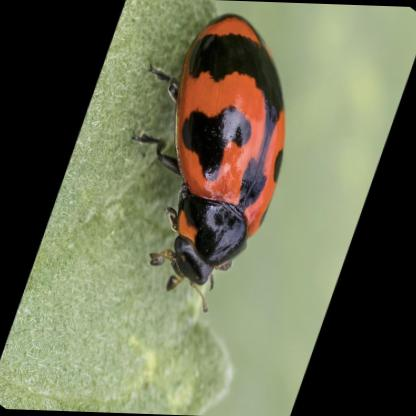uroleucon compositae: (151, 9, 284, 313)
